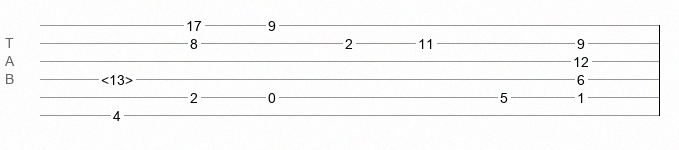0: (268, 90, 276, 100)
1: (577, 90, 585, 100)
11: (418, 36, 434, 46)
12: (573, 54, 589, 64)
17: (186, 18, 202, 28)
2: (190, 90, 198, 100), (345, 36, 353, 46)
4: (113, 108, 121, 118)
5: (500, 90, 508, 100)
6: (577, 72, 585, 82)
8: (190, 36, 198, 46)
9: (268, 18, 276, 28), (577, 36, 585, 46)
harmonic: (101, 72, 133, 82)
